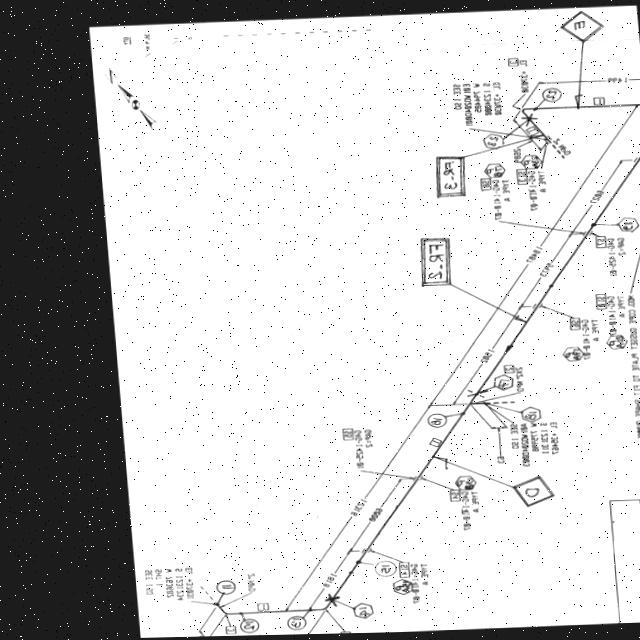Item number: (587, 294, 602, 313), (388, 562, 402, 581), (560, 319, 576, 334), (474, 178, 488, 195), (417, 437, 435, 450), (520, 127, 538, 140), (333, 428, 348, 442), (587, 238, 602, 252), (511, 171, 523, 187), (439, 491, 453, 504), (496, 366, 510, 376), (213, 626, 228, 635), (119, 35, 130, 47), (589, 99, 602, 109), (246, 603, 260, 612), (503, 60, 516, 69), (329, 632, 341, 635), (638, 130, 640, 140)
Measrement: (416, 108, 640, 408), (272, 407, 430, 612), (509, 235, 572, 313), (337, 477, 398, 553), (451, 320, 511, 397), (562, 161, 620, 235), (297, 548, 347, 610), (506, 121, 539, 169), (528, 79, 640, 90), (480, 426, 502, 468), (198, 633, 299, 637), (506, 368, 519, 398)
Pipeline: (197, 148, 640, 620), (515, 104, 640, 149)
Symbol: (510, 105, 539, 126), (203, 601, 236, 618), (308, 593, 332, 613), (494, 345, 508, 360)
Weld number: (476, 133, 503, 154), (610, 217, 637, 236), (363, 561, 388, 580), (418, 413, 442, 432), (204, 578, 229, 596), (275, 615, 299, 633), (225, 619, 251, 635), (536, 88, 560, 105), (340, 603, 364, 620)
other: (599, 296, 640, 444), (490, 406, 555, 466), (445, 81, 502, 132), (129, 564, 187, 605), (413, 237, 449, 289), (486, 178, 510, 228), (521, 173, 548, 216), (451, 487, 474, 536), (399, 562, 424, 607), (345, 429, 370, 473), (574, 319, 597, 363), (601, 238, 623, 280), (516, 61, 528, 96), (233, 572, 249, 596)
